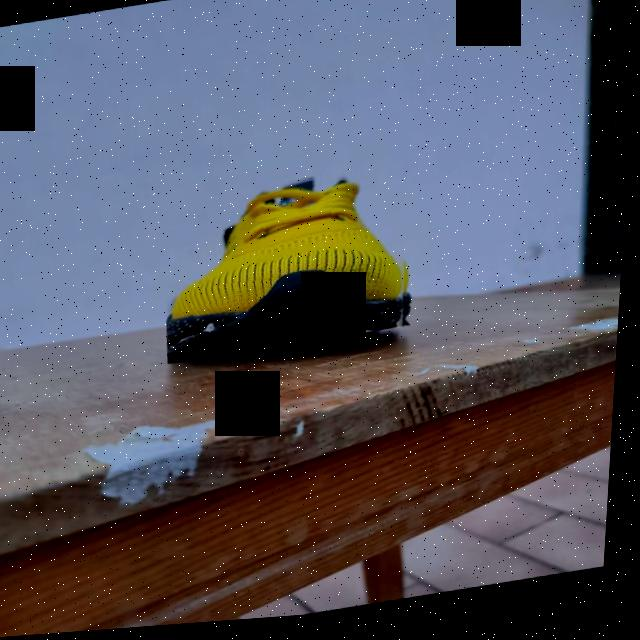shoe: (158, 167, 424, 368)
